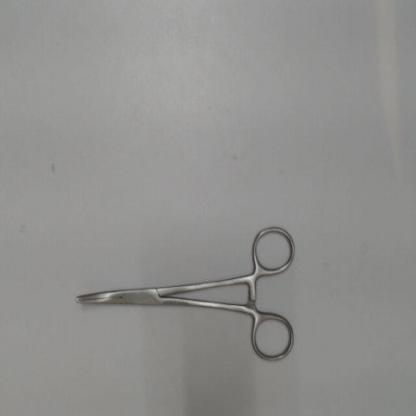Crile Artery Forceps: (66, 216, 302, 372)
